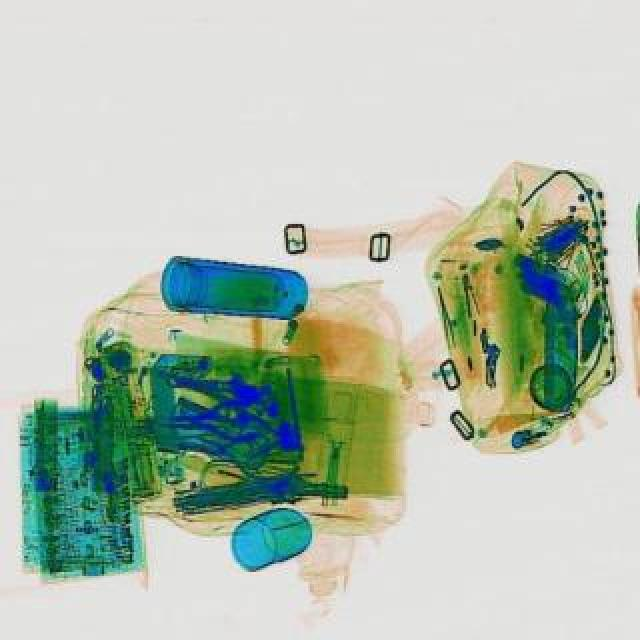scissors: (162, 364, 258, 400)
wrench: (158, 396, 258, 442)
